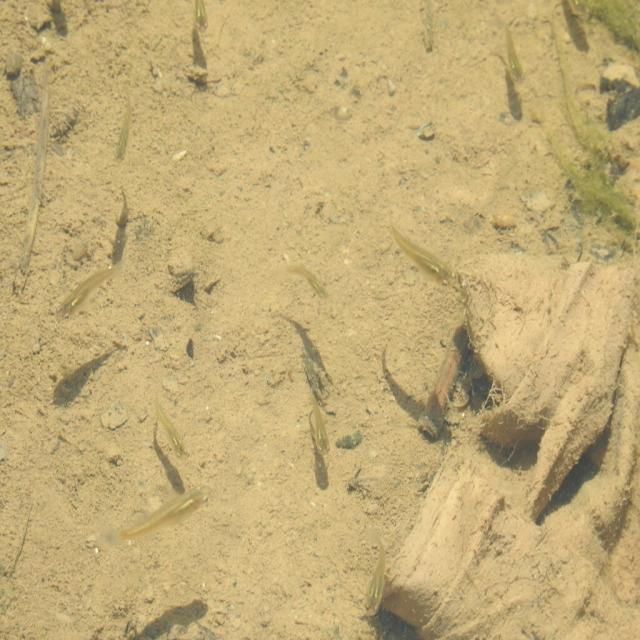Sivrisinek Baligi: (106, 480, 210, 545), (386, 212, 455, 290), (54, 252, 122, 323), (303, 381, 337, 465), (278, 252, 334, 301), (155, 396, 196, 460), (360, 545, 394, 622), (107, 108, 138, 164), (504, 26, 528, 94), (187, 0, 210, 30)
